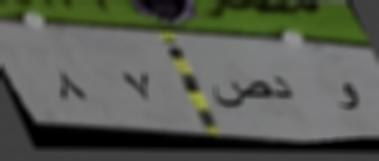7: (114, 56, 162, 114)
8: (48, 60, 95, 112)
daal: (272, 68, 298, 111)
saad: (202, 74, 272, 116)
waw: (328, 73, 370, 128)
